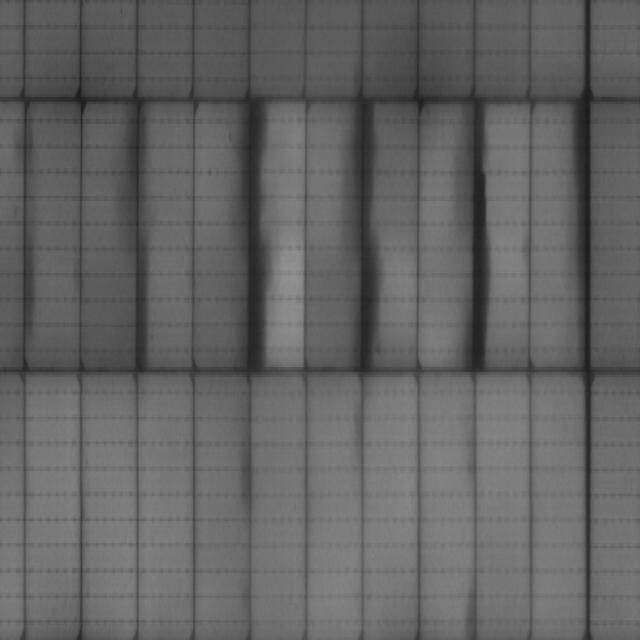BLACK SPOT: (242, 88, 277, 391), (462, 85, 494, 370), (350, 88, 380, 371), (576, 75, 599, 360)
